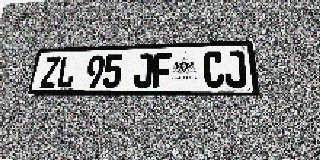5: (102, 54, 123, 88)
9: (85, 55, 106, 88)
C: (203, 51, 225, 88)
F: (152, 53, 172, 88)
J: (223, 50, 247, 88), (133, 53, 153, 88)
L: (56, 56, 77, 88)
Z: (40, 56, 61, 88)
